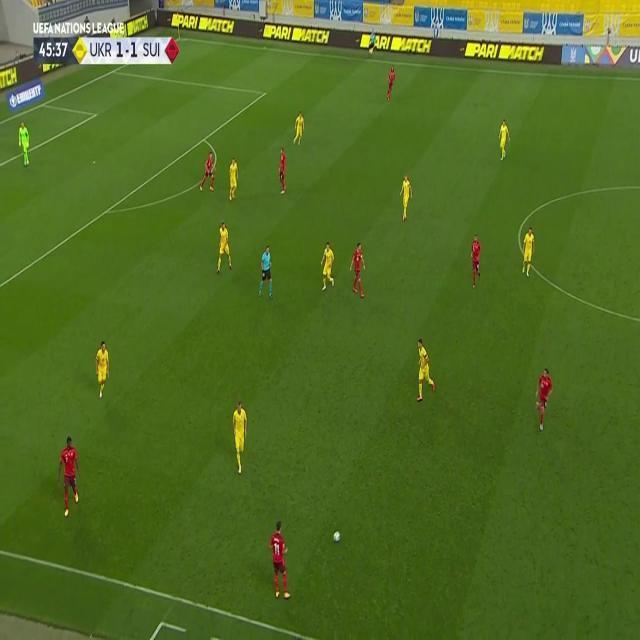ball: (333, 529, 341, 543)
goalkeeper: (17, 119, 32, 167)
player: (57, 433, 81, 518), (268, 518, 290, 601), (414, 338, 436, 402), (535, 366, 554, 431), (232, 397, 247, 475), (349, 241, 367, 298), (215, 220, 233, 274), (95, 340, 110, 401), (320, 241, 336, 291), (521, 226, 536, 279), (398, 172, 413, 222), (199, 150, 216, 192), (470, 234, 483, 288), (498, 118, 511, 161), (277, 146, 288, 196), (291, 109, 305, 147), (227, 158, 239, 202), (385, 64, 397, 102)
referee: (258, 244, 275, 299), (367, 28, 377, 56)
